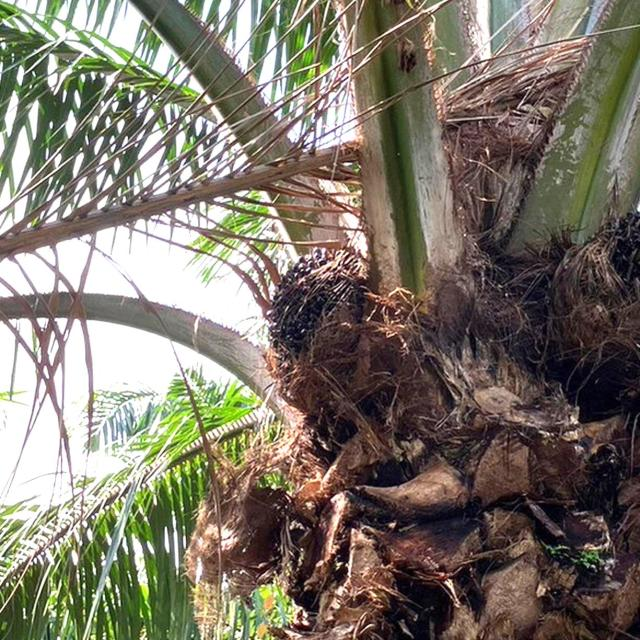unripe: (265, 248, 372, 358)
